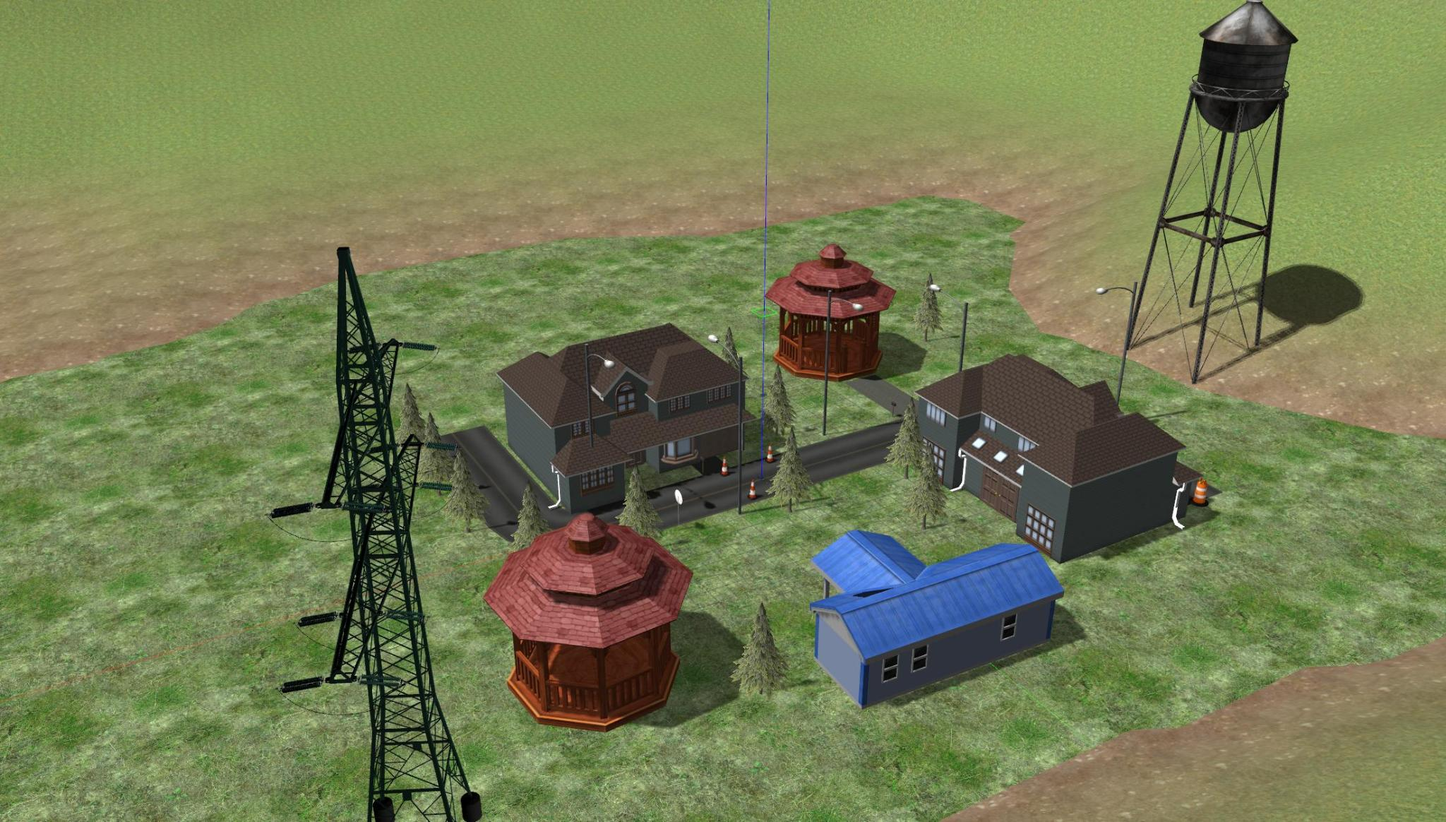tower: (309, 236, 491, 822)
